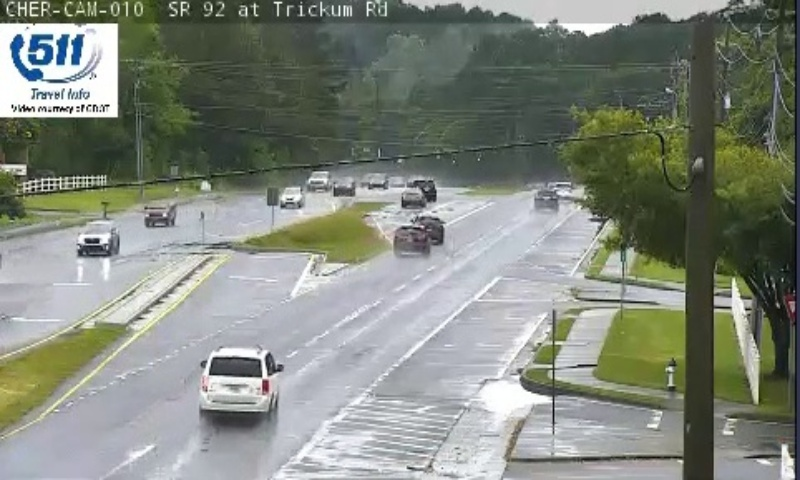car: (199, 348, 278, 409), (393, 225, 429, 252), (411, 216, 444, 245)
